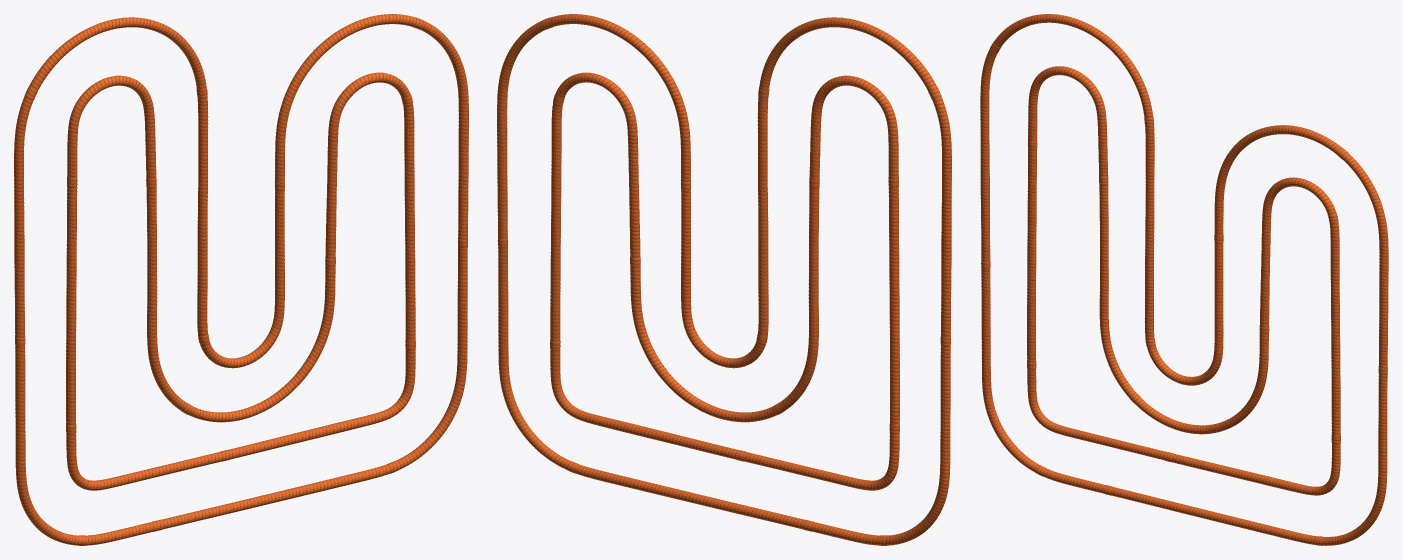
Rendered from ducts.obj.
3 views of the same model, side by side, from view 1: azimuth 30°, elevation 25°; view 2: azimuth 150°, elevation 25°; view 3: azimuth 330°, elevation 25° (orthographic). The views are drawn at different scales.
Size of the model in its own units: 14.67 by 16.12 by 0.3065.
1 material, 1 textured.
